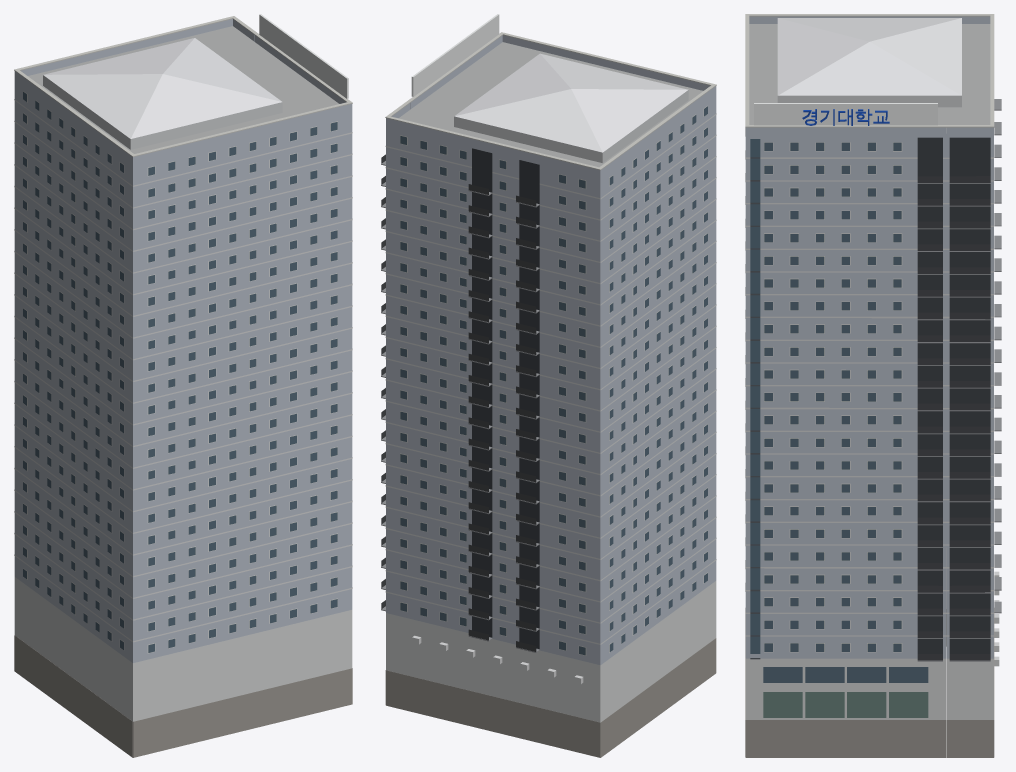
3 views of the same model, side by side, from view 1: azimuth 30°, elevation 25°; view 2: azimuth 150°, elevation 25°; view 3: azimuth 270°, elevation 25° (orthographic). The views are drawn at different scales.
Visible parts, largest first — view 1: w451562722__tower-wall, w451562722__glass, w451562722__base-wall, w451562722__band-wall, w451562722__louver-roof, w451562722__foundation-wall, w451562722__frame, w451562722__roof, w451562722__louver-wall, w451562722__coping-stone, w451562722__sign-white; view 2: w451562722__tower-wall, w451562722__base-wall, w451562722__glass, w451562722__balcony-dark-wall, w451562722__band-wall, w451562722__louver-roof, w451562722__foundation-wall, w451562722__frame, w451562722__rail-dark, w451562722__roof, w451562722__louver-wall, w451562722__coping-stone (+2 smaller); view 3: w451562722__tower-wall, w451562722__balcony-dark-wall, w451562722__louver-roof, w451562722__glass, w451562722__rail-dark, w451562722__foundation-wall, w451562722__base-wall, w451562722__band-wall, w451562722__roof, w451562722__frame, w451562722__core-glass, w451562722__balcony-slab (+6 smaller).
Part boxes in pixels (x1,y1,x2,y2): w451562722__tower-wall: [14, 19, 352, 662]; w451562722__glass: [23, 91, 337, 652]; w451562722__base-wall: [14, 577, 352, 721]; w451562722__band-wall: [14, 99, 352, 642]; w451562722__louver-roof: [43, 38, 281, 138]; w451562722__foundation-wall: [14, 635, 352, 757]; w451562722__frame: [23, 91, 337, 653]; w451562722__roof: [28, 26, 338, 153]; w451562722__louver-wall: [43, 75, 282, 149]; w451562722__coping-stone: [14, 16, 352, 157]; w451562722__sign-white: [259, 14, 348, 98]; w451562722__tower-wall: [386, 35, 716, 665]; w451562722__base-wall: [386, 581, 716, 722]; w451562722__glass: [400, 106, 707, 655]; w451562722__balcony-dark-wall: [472, 148, 539, 648]; w451562722__band-wall: [385, 113, 716, 683]; w451562722__louver-roof: [454, 53, 688, 152]; w451562722__foundation-wall: [385, 638, 716, 757]; w451562722__frame: [400, 105, 707, 655]; w451562722__rail-dark: [381, 154, 536, 651]; w451562722__roof: [399, 42, 702, 167]; w451562722__louver-wall: [454, 90, 688, 163]; w451562722__coping-stone: [385, 32, 716, 170]; w451562722__tower-wall: [745, 16, 993, 658]; w451562722__balcony-dark-wall: [917, 137, 990, 653]; w451562722__louver-roof: [777, 18, 961, 95]; w451562722__glass: [763, 142, 928, 682]; w451562722__rail-dark: [917, 176, 990, 660]; w451562722__foundation-wall: [745, 608, 994, 757]; w451562722__base-wall: [745, 548, 993, 719]; w451562722__band-wall: [745, 157, 999, 666]; w451562722__roof: [749, 24, 990, 133]; w451562722__frame: [745, 128, 902, 652]; w451562722__core-glass: [750, 139, 760, 653]; w451562722__balcony-slab: [917, 99, 1001, 661].
Bounding box in the file's own units: 32.75 × 86.2 × 30.66.
